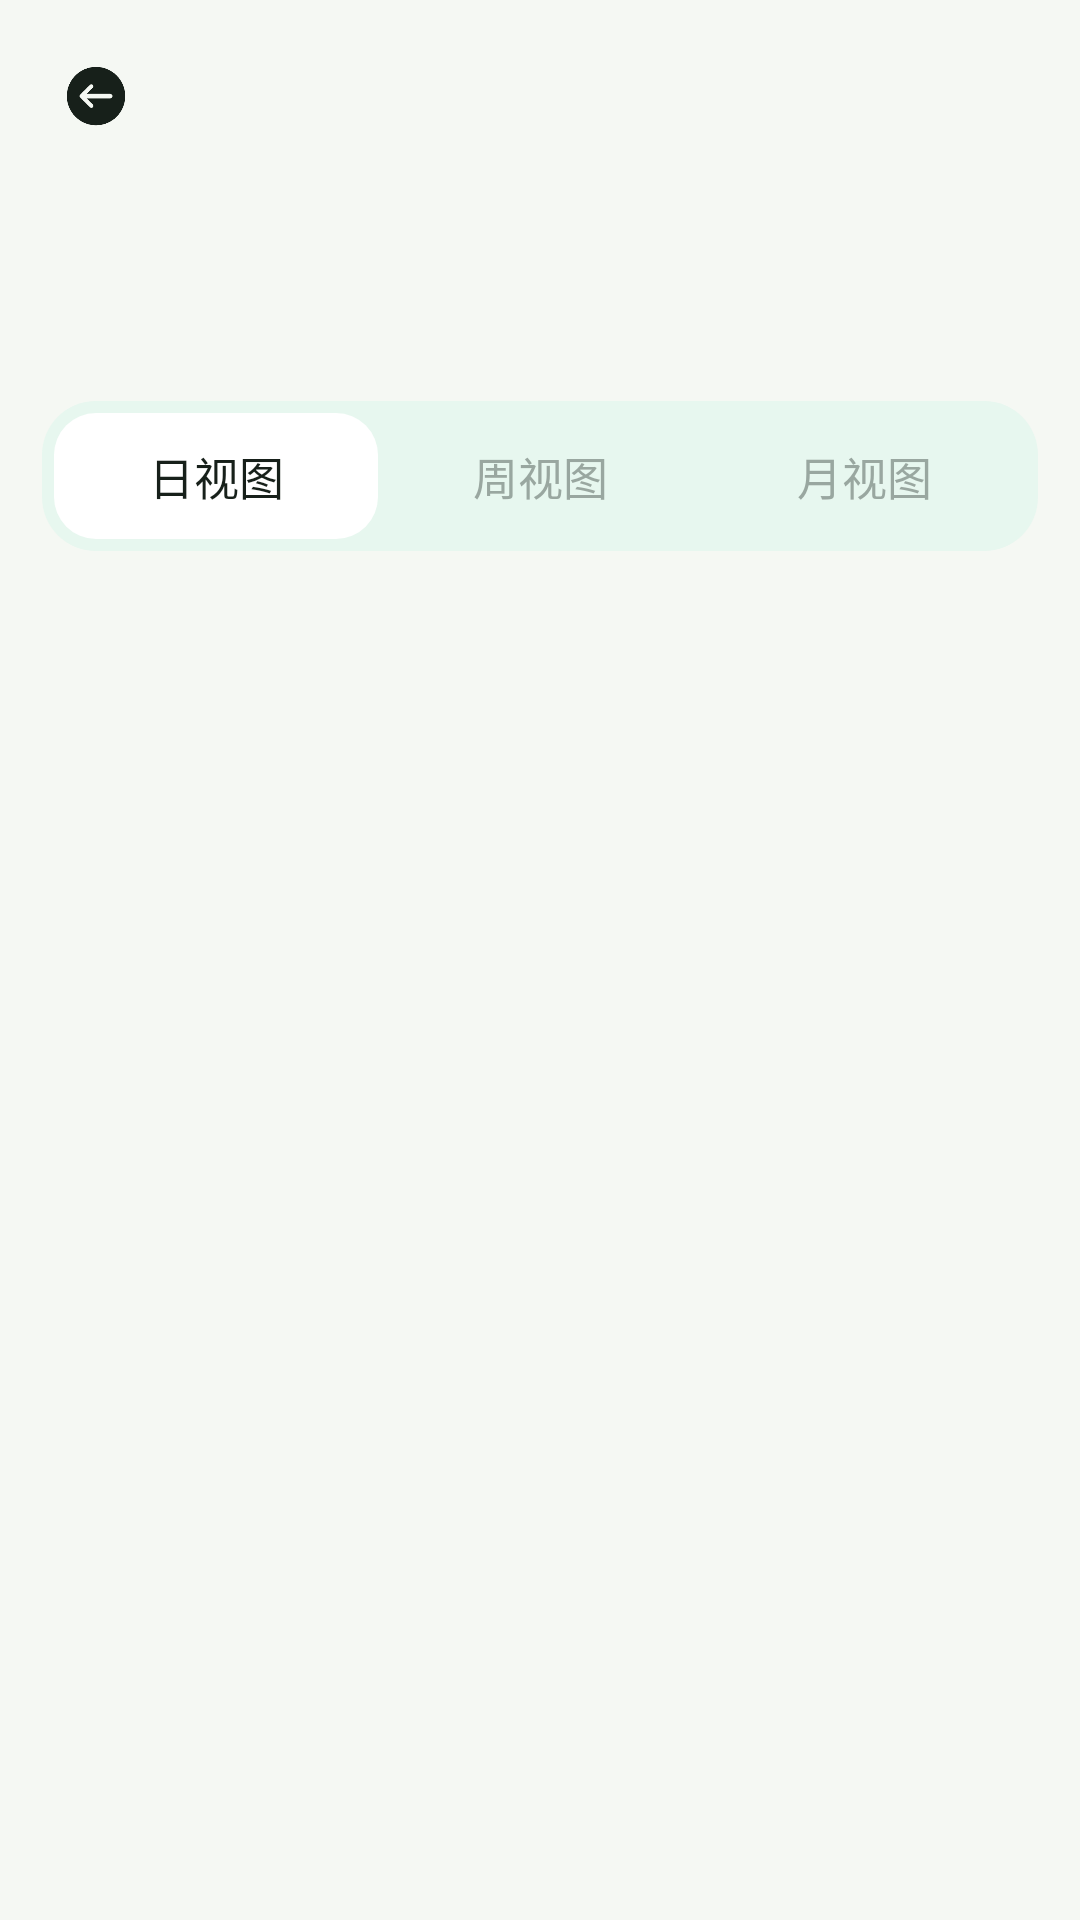

Named icons in this screenshot (1080px×1920px) and their centers, (x,y):
返回: (96,96)
